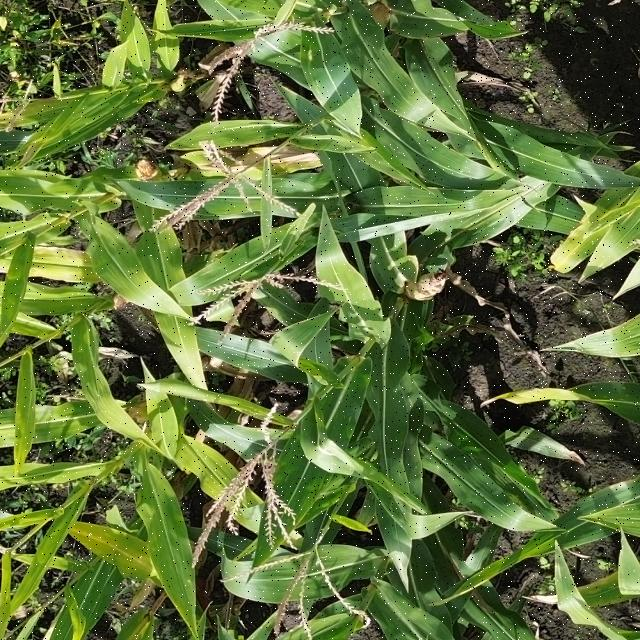gray-leaf-spot: (250, 410, 352, 540)
northern-leaf-blight: (19, 231, 138, 285)
southern-leaf-blight: (310, 66, 448, 130)
